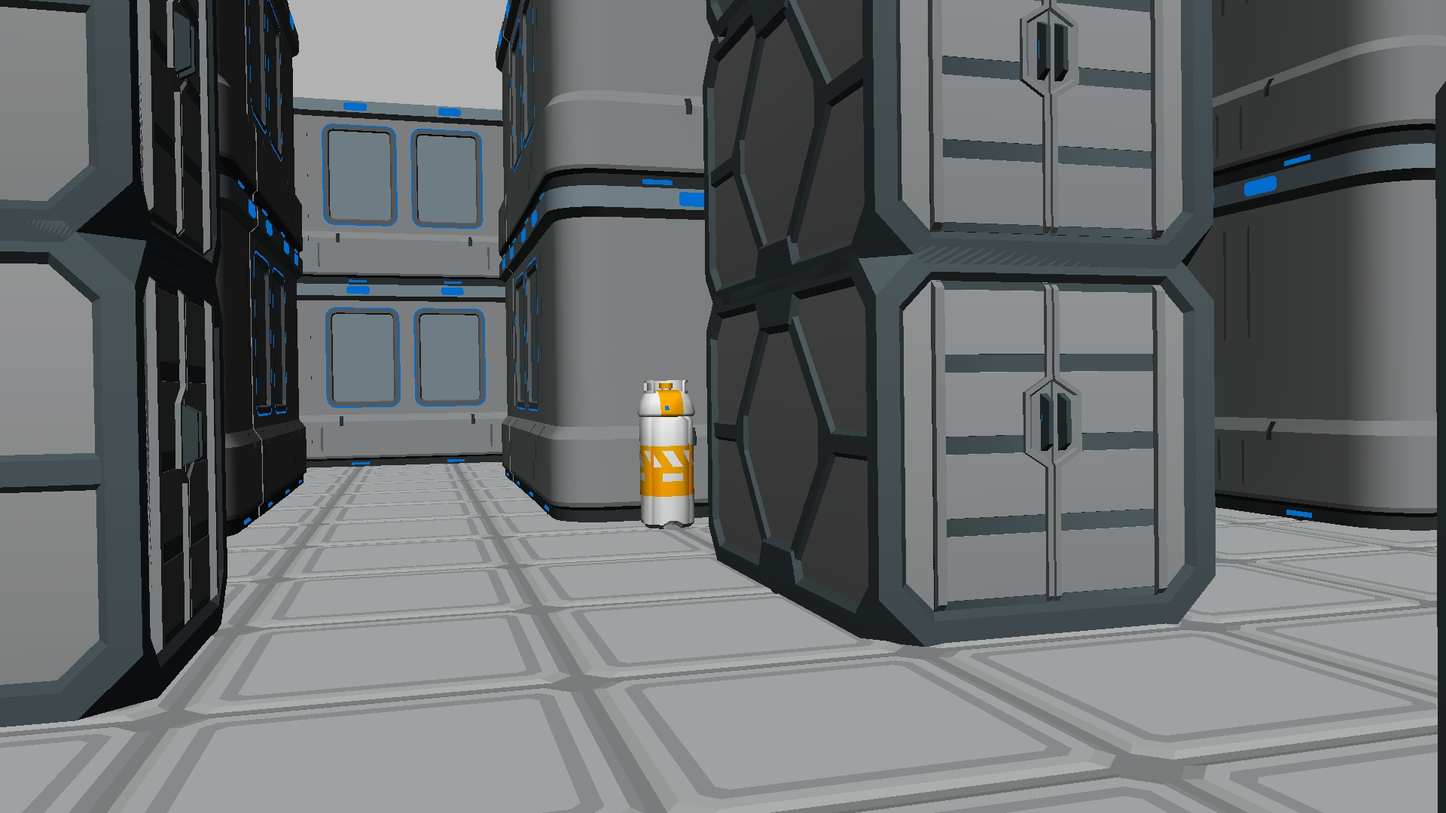yellow barrel: (637, 379, 697, 530)
